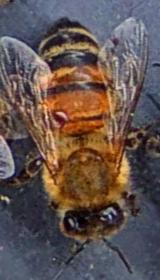varroa_mite: (40, 95, 74, 140)
